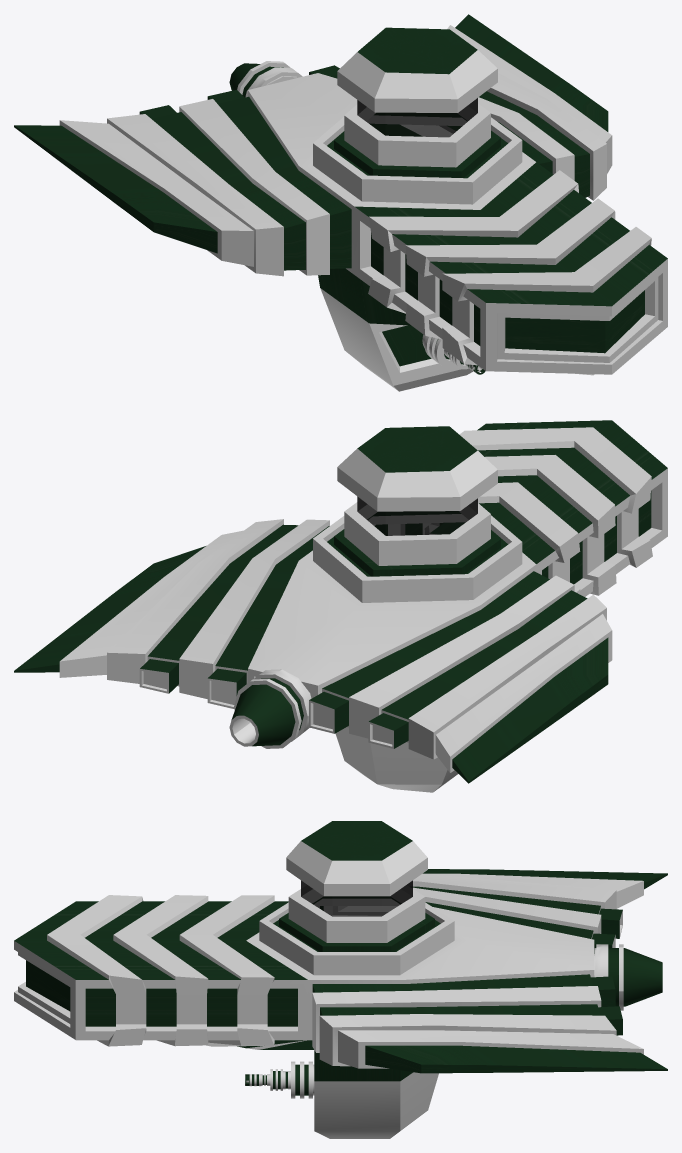
File: DCA.fbx
The picture shows the model from 3 angles, top to bottom: view 1: azimuth 30°, elevation 25°; view 2: azimuth 150°, elevation 25°; view 3: azimuth 270°, elevation 25°; orthographic projection. The views are drawn at different scales.
Visible parts, largest first — view 1: DCA; view 2: DCA; view 3: DCA.
Part boxes in pixels (x1,y1,x2,y2): DCA: [14, 14, 667, 391]; DCA: [14, 420, 667, 792]; DCA: [14, 821, 667, 1138].
Bounding box in the file's own units: 6.01 × 4.06 × 8.49.
